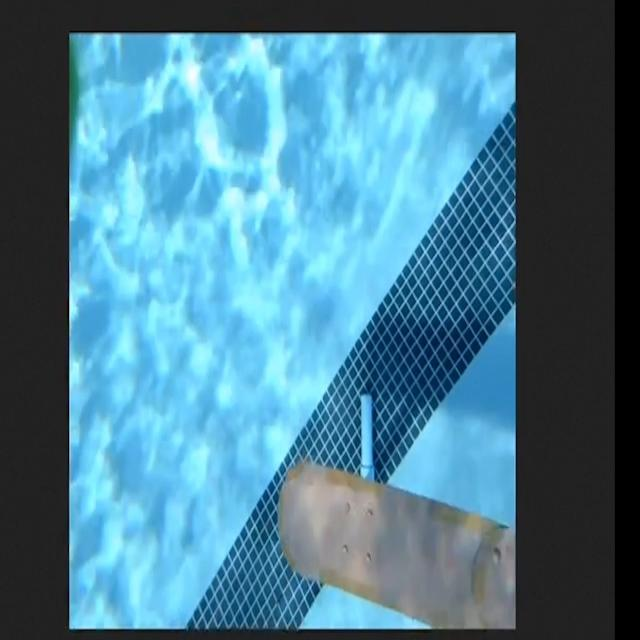Path: (278, 460, 517, 629)
